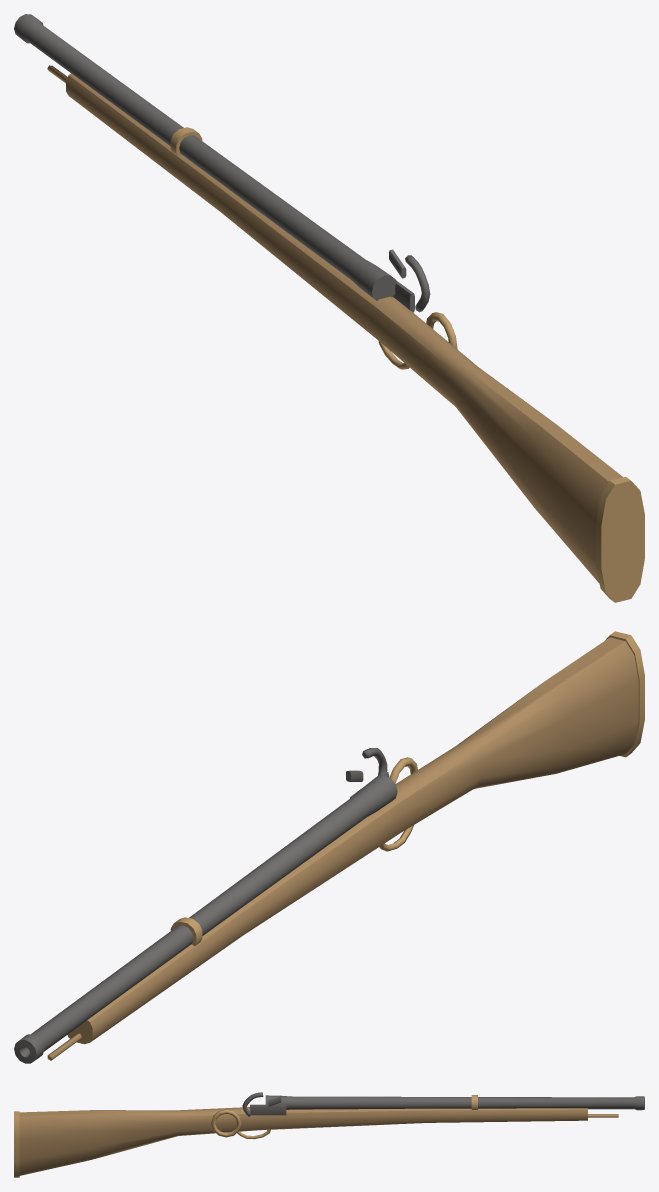
Rendered from dragoon-musket.glb.
The picture shows the model from 3 angles, top to bottom: view 1: azimuth 30°, elevation 25°; view 2: azimuth 150°, elevation 25°; view 3: azimuth 270°, elevation 25°; orthographic projection. The views are drawn at different scales.
Visible parts, largest first — view 1: dragoon-musket; view 2: dragoon-musket; view 3: dragoon-musket.
Boxes of the visible parts, x1,y1,x2,y2 form: dragoon-musket: (14, 14, 644, 602); dragoon-musket: (14, 631, 644, 1063); dragoon-musket: (14, 1092, 644, 1177).
Size of the model in its own units: 0.1098 by 0.3741 by 2.41.
